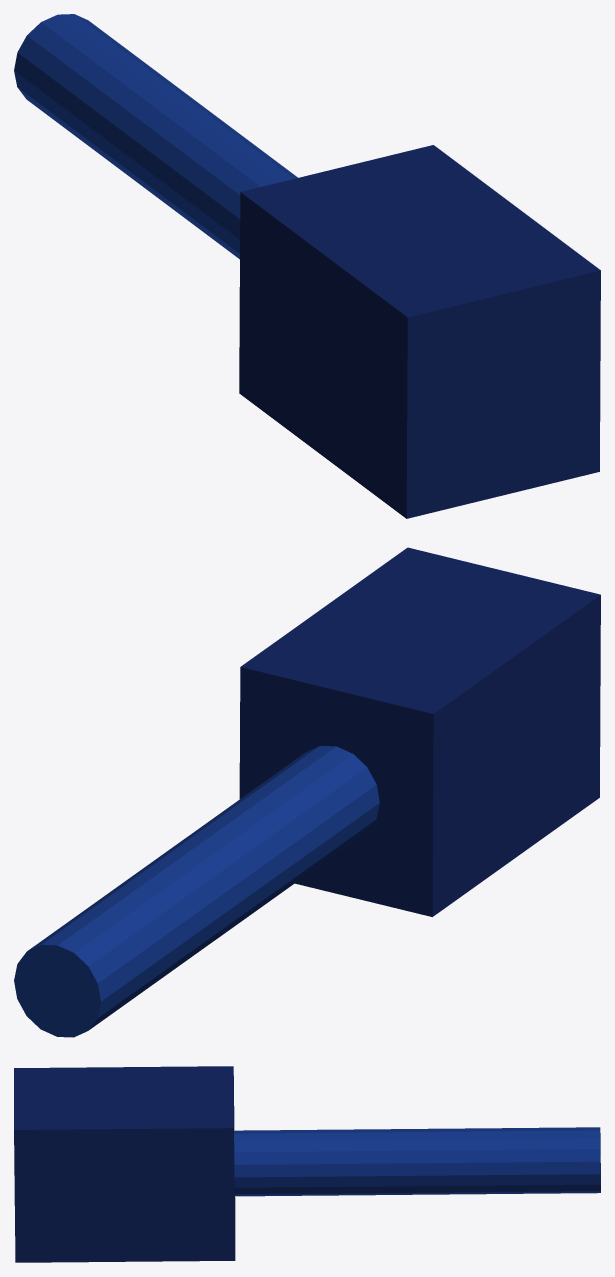
The model's file is playerCanonn.obj.
3 renders of one model, top to bottom at view 1: azimuth 30°, elevation 25°; view 2: azimuth 150°, elevation 25°; view 3: azimuth 270°, elevation 25°, orthographic. The views are drawn at different scales.
Parts seen in each view (by area): view 1: playerCannon; view 2: playerCannon; view 3: playerCannon.
Boxes of the visible parts, bbox=[...] form: playerCannon: bbox=[14, 14, 600, 518]; playerCannon: bbox=[14, 547, 600, 1037]; playerCannon: bbox=[14, 1066, 600, 1262].
Size of the model in its own units: 2 by 2.03 by 8.01.
